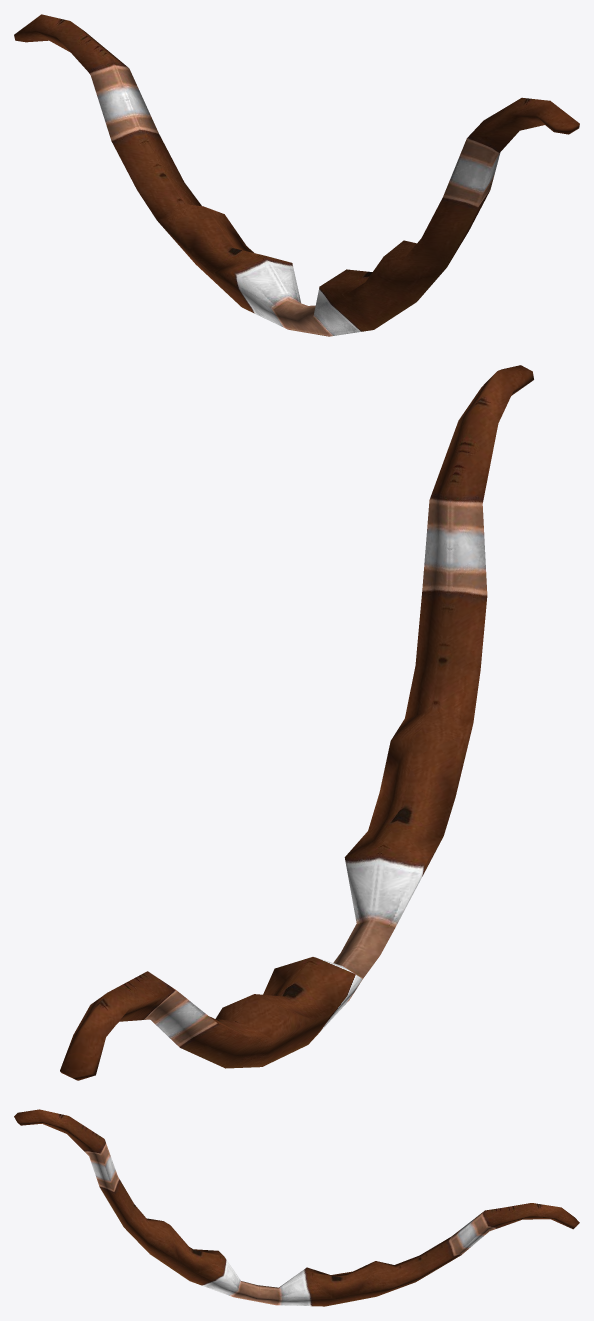
The model's file is rangedweapon-base.glb.
3 renders of one model, top to bottom at view 1: azimuth 30°, elevation 25°; view 2: azimuth 150°, elevation 25°; view 3: azimuth 270°, elevation 25°, orthographic. The views are drawn at different scales.
Bounding box in the file's own units: 0.1852 × 0.5247 × 1.22.
1 material, 1 textured.
